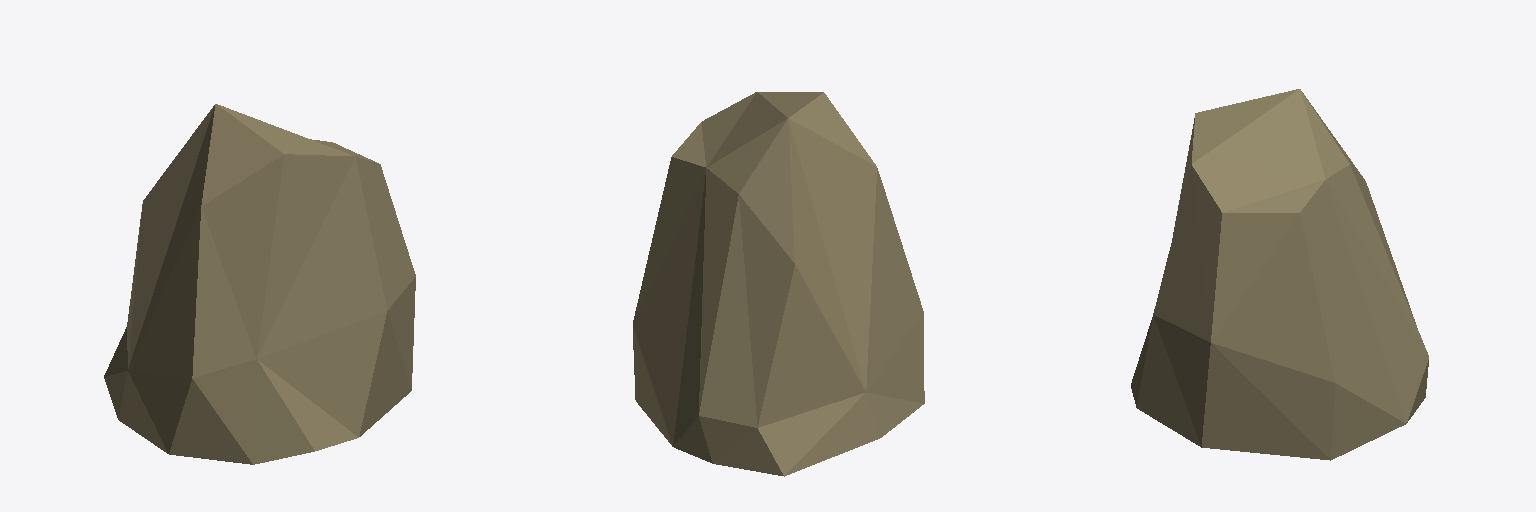
The model's file is rock3.obj.
3 views of the same model, side by side, from view 1: azimuth 30°, elevation 25°; view 2: azimuth 150°, elevation 25°; view 3: azimuth 270°, elevation 25° (orthographic).
Parts seen in each view (by area): view 1: pasted__pasted__stone pasted__graystone group; view 2: pasted__pasted__stone pasted__graystone group; view 3: pasted__pasted__stone pasted__graystone group.
Boxes of the visible parts, x1=… form: pasted__pasted__stone pasted__graystone group: x1=104, y1=104, x2=415, y2=464; pasted__pasted__stone pasted__graystone group: x1=633, y1=92, x2=924, y2=476; pasted__pasted__stone pasted__graystone group: x1=1131, y1=89, x2=1428, y2=460.
Size of the model in its own units: 1.81 by 2.1 by 1.86.